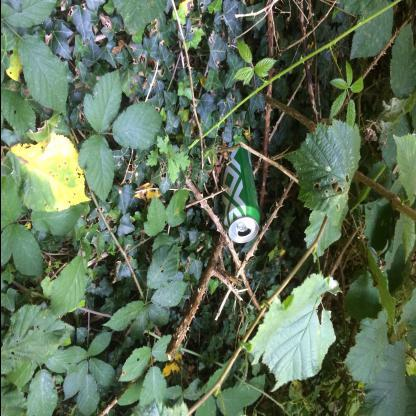metal: (222, 134, 262, 245)
